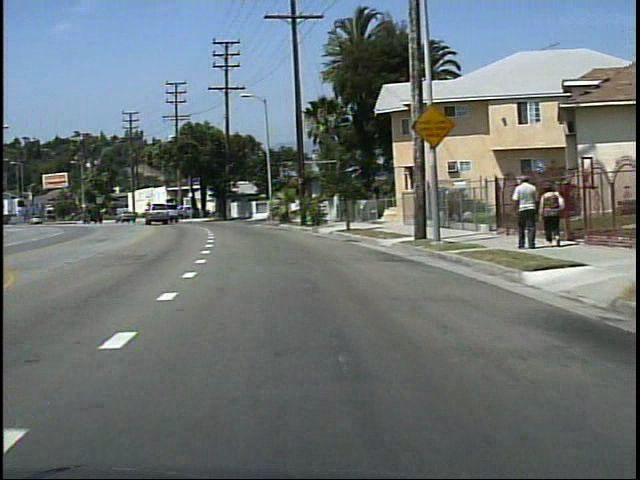person: (507, 173, 536, 252), (535, 182, 564, 247)
